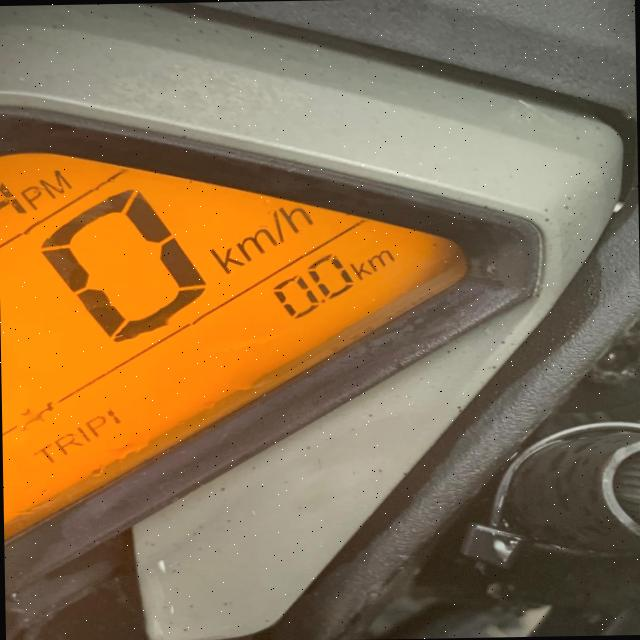odometer: (0, 116, 505, 550)
